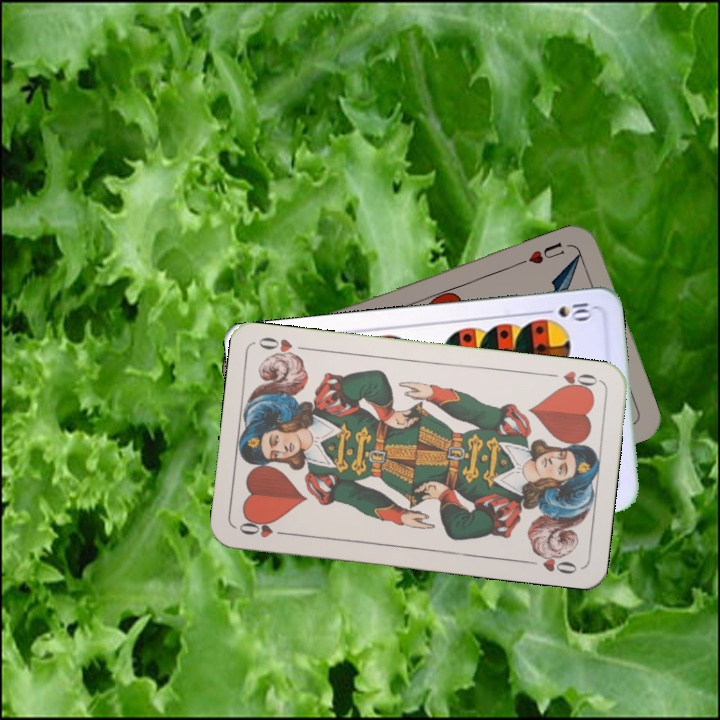HO: (543, 367, 602, 394), (235, 515, 293, 541)
HU: (517, 238, 567, 267)
S10: (537, 299, 596, 322)
